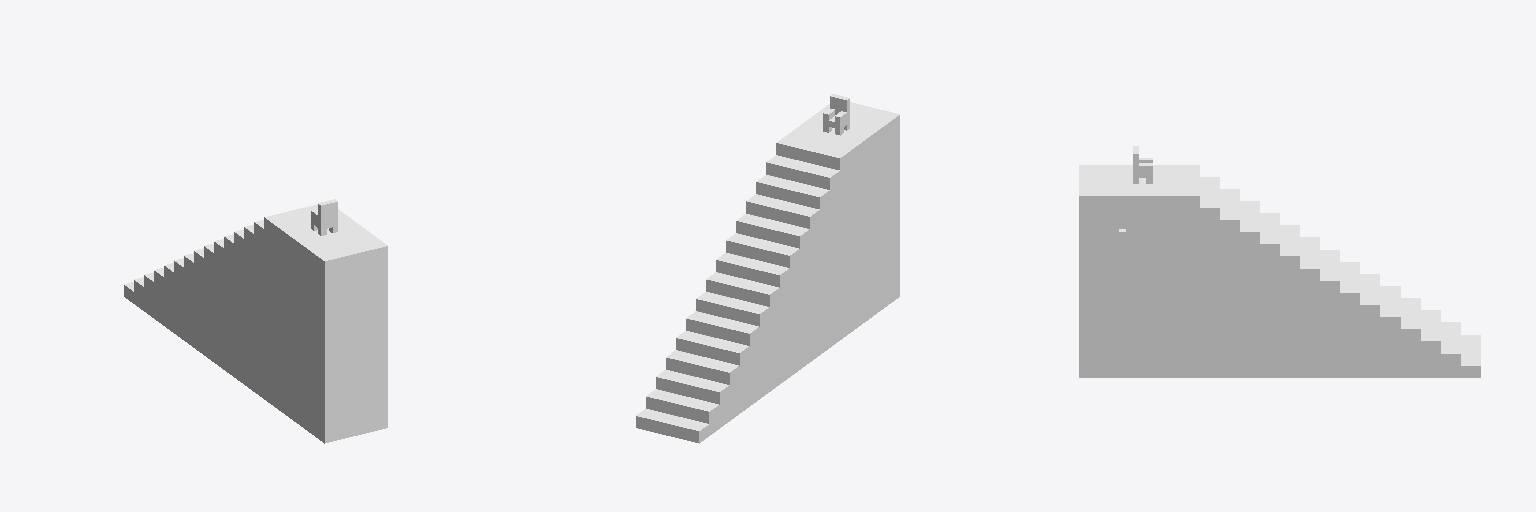
Rendered from Throneroom-Slice.obj.
3 views of the same model, side by side, from view 1: azimuth 30°, elevation 25°; view 2: azimuth 150°, elevation 25°; view 3: azimuth 270°, elevation 25° (orthographic).
Visible parts, largest first — view 1: throne-roomobj; view 2: throne-roomobj; view 3: throne-roomobj.
Part boxes in pixels (bbox=[...]): throne-roomobj: bbox=[124, 199, 387, 443]; throne-roomobj: bbox=[636, 94, 899, 443]; throne-roomobj: bbox=[1079, 146, 1480, 377].
Bounding box in the file's own units: 1.1 × 3.5 × 6.